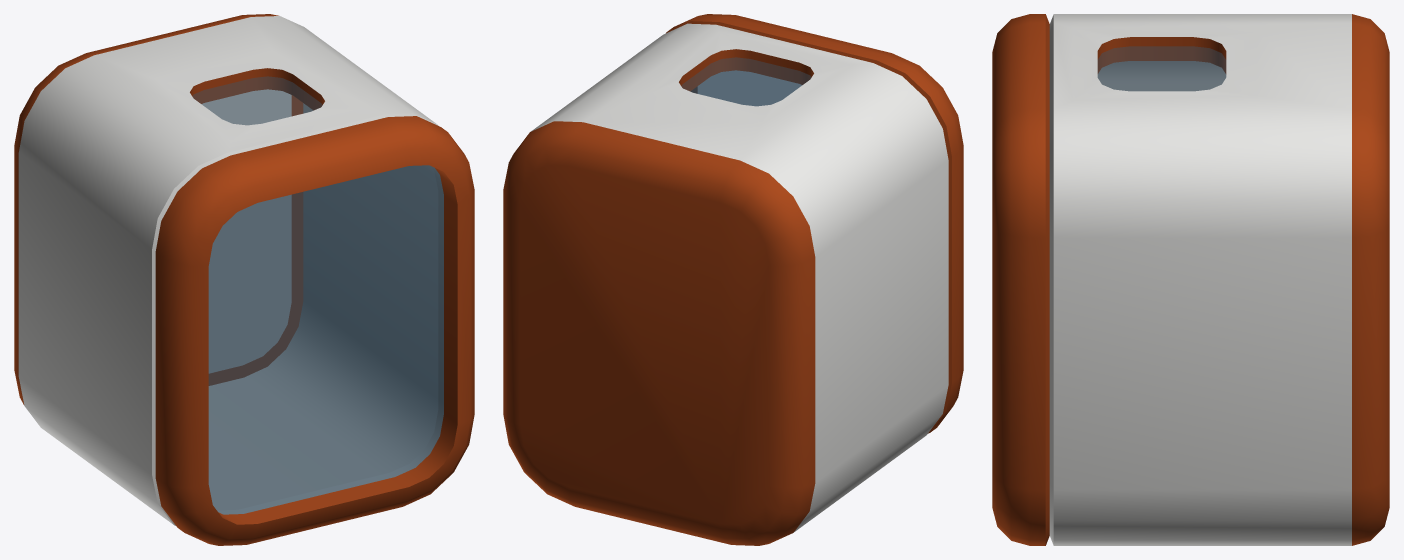
Rendered from SM_Props_Drying_Counter.fbx.
3 views of the same model, side by side, from view 1: azimuth 30°, elevation 25°; view 2: azimuth 150°, elevation 25°; view 3: azimuth 270°, elevation 25° (orthographic). The views are drawn at different scales.
Parts seen in each view (by area): view 1: SM_Props_Drying_Counter; view 2: SM_Props_Drying_Counter; view 3: SM_Props_Drying_Counter.
Boxes of the visible parts, <box> form: SM_Props_Drying_Counter: <box>14,14,474,545</box>; SM_Props_Drying_Counter: <box>503,14,963,545</box>; SM_Props_Drying_Counter: <box>992,14,1389,545</box>.
Bounding box in the file's own units: 0.42 × 0.501 × 0.42.
